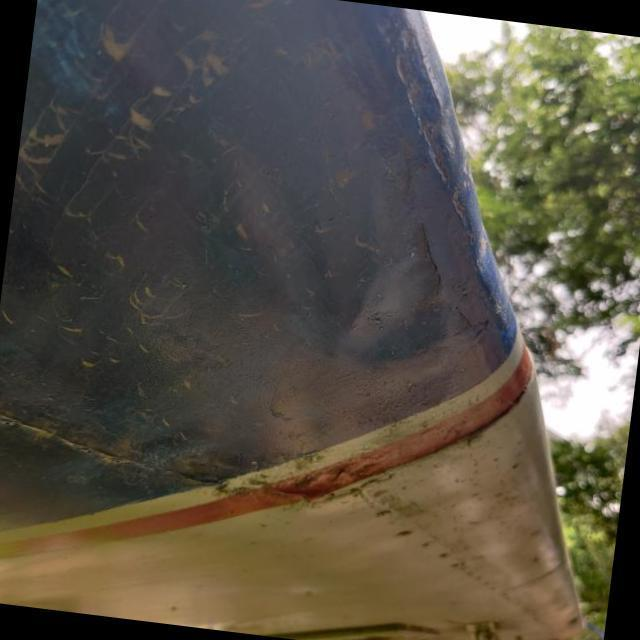dent: (321, 222, 463, 368)
